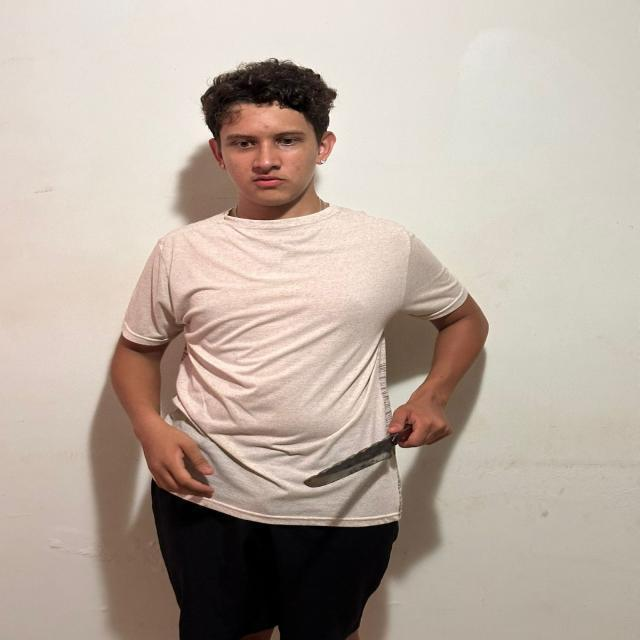knife: (305, 435, 395, 485)
